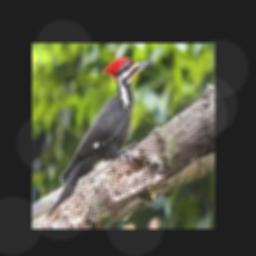Woodpecker: (49, 56, 154, 214)
